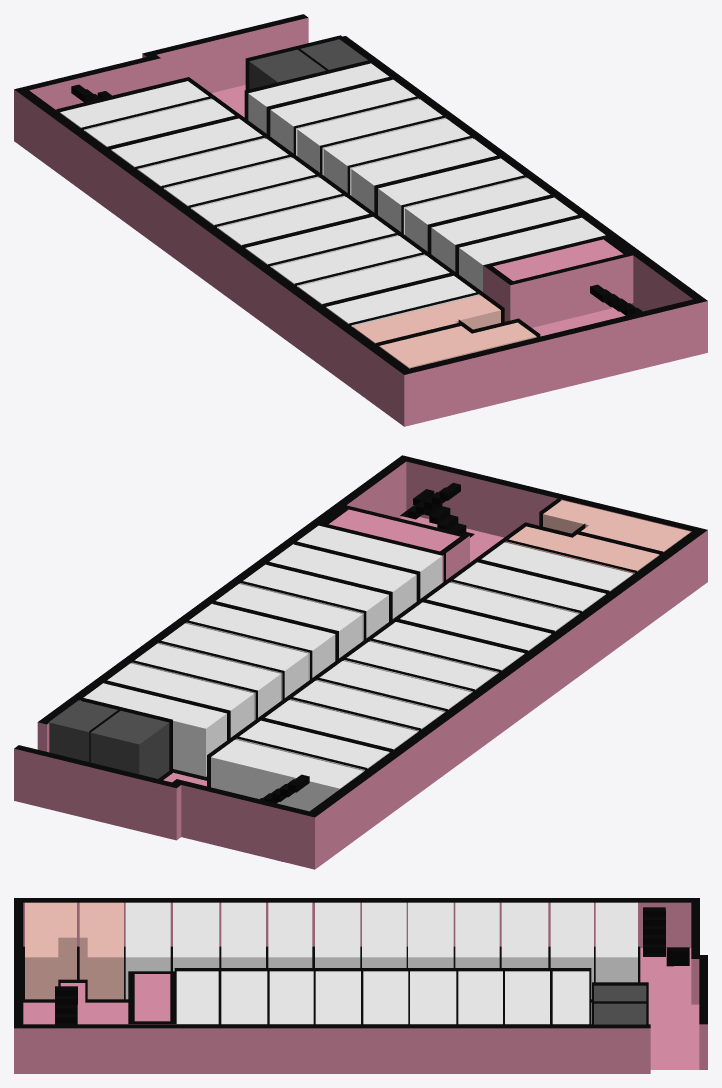
3 renders of one model, top to bottom at view 1: azimuth 30°, elevation 25°; view 2: azimuth 150°, elevation 25°; view 3: azimuth 270°, elevation 25°, orthographic. The views are drawn at different scales.
Parts seen in each view (by area): view 1: object, room_3_6_15, room_3_6_17, room_3_6_13, room_3_6_14, room_3_6_19, room_3_6_20, room_3_6_16, トイレ_3_6_1, room_3_6_18, room_3_6_9, トイレ_3_6_2 (+24 smaller); view 2: object, エレベーター_3_6_1, room_3_6_11, room_3_6_12, room_3_6_15, room_3_6_16, room_3_6_14, room_3_6_18, room_3_6_19, トイレ_3_6_1, room_3_6_13, room_3_6_17 (+25 smaller); view 3: object, トイレ_3_6_1, トイレ_3_6_2, room_3_6_11, room_3_6_1, room_3_6_9, room_3_6_2, room_3_6_7, room_3_6_5, room_3_6_3, room_3_6_6, room_3_6_8 (+26 smaller).
Boxes of the visible parts, x1,y1,x2,y2 form: object: [14, 14, 707, 426]; room_3_6_15: [323, 118, 472, 195]; room_3_6_17: [378, 158, 526, 234]; room_3_6_13: [270, 79, 418, 155]; room_3_6_14: [297, 99, 445, 175]; room_3_6_19: [431, 197, 577, 271]; room_3_6_20: [459, 217, 605, 291]; room_3_6_16: [351, 139, 496, 212]; トイレ_3_6_1: [379, 322, 536, 368]; room_3_6_18: [405, 178, 549, 251]; room_3_6_9: [111, 118, 265, 170]; トイレ_3_6_2: [352, 295, 500, 343]; object: [14, 455, 707, 869]; エレベーター_3_6_1: [48, 700, 169, 778]; room_3_6_11: [211, 739, 363, 811]; room_3_6_12: [83, 683, 226, 776]; room_3_6_15: [158, 623, 308, 700]; room_3_6_16: [186, 604, 335, 680]; room_3_6_14: [131, 643, 280, 720]; room_3_6_18: [240, 564, 388, 640]; room_3_6_19: [269, 544, 416, 618]; トイレ_3_6_1: [543, 500, 690, 551]; room_3_6_13: [107, 663, 254, 737]; room_3_6_17: [216, 584, 362, 658]; object: [14, 898, 707, 1073]; トイレ_3_6_1: [25, 902, 76, 999]; トイレ_3_6_2: [79, 902, 123, 999]; room_3_6_11: [595, 902, 637, 982]; room_3_6_1: [125, 902, 170, 999]; room_3_6_9: [501, 902, 548, 967]; room_3_6_2: [173, 902, 219, 971]; room_3_6_7: [408, 902, 453, 967]; room_3_6_5: [315, 902, 360, 967]; room_3_6_3: [221, 902, 265, 967]; room_3_6_6: [362, 902, 406, 967]; room_3_6_8: [455, 902, 499, 967].
Bounding box in the file's own units: 1.13 × 0.233 × 2.55.
